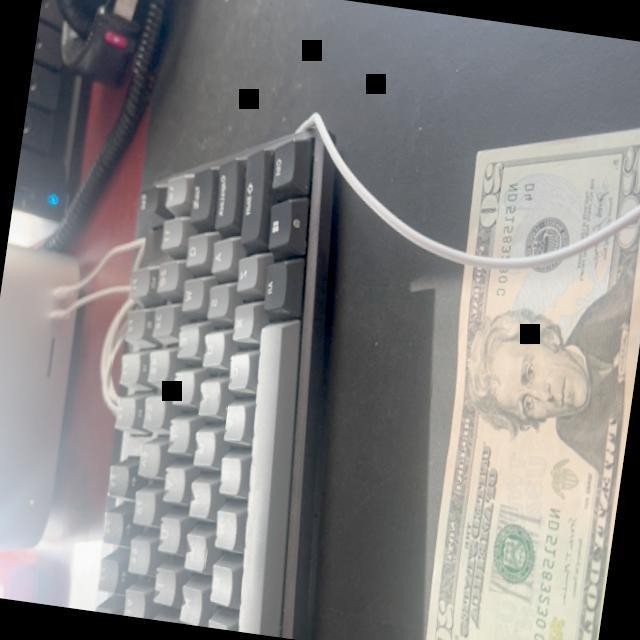twenty: (406, 100, 640, 640)
